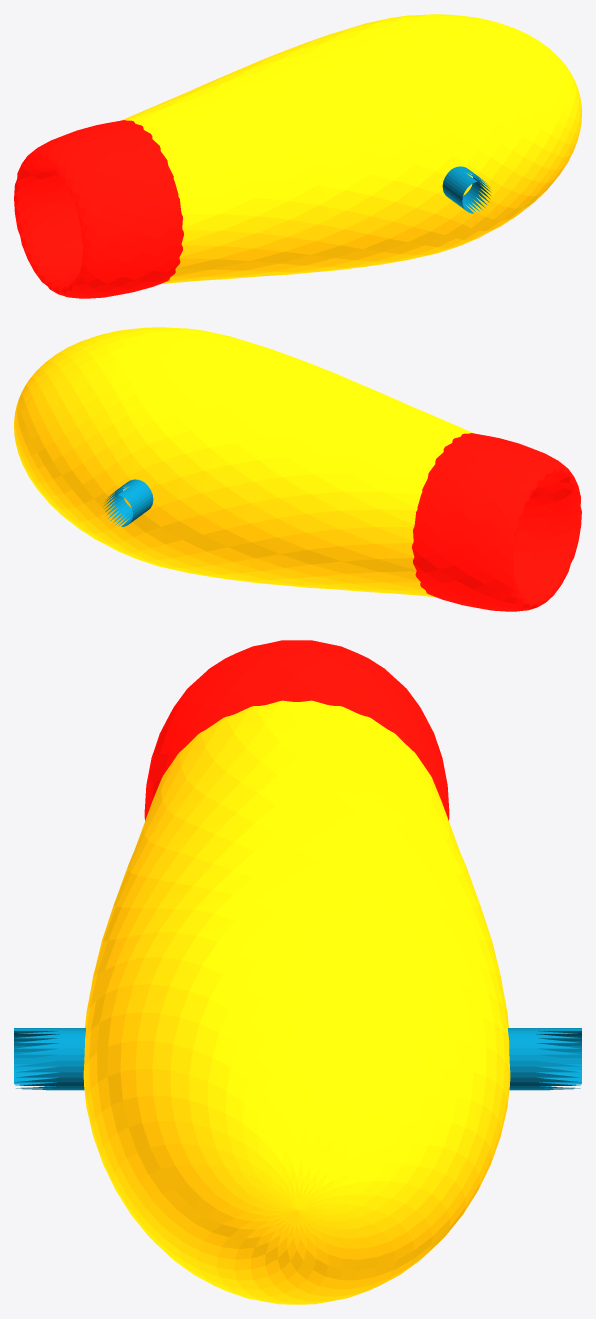
File: cannon.glb
3 renders of one model, top to bottom at view 1: azimuth 30°, elevation 25°; view 2: azimuth 150°, elevation 25°; view 3: azimuth 270°, elevation 25°, orthographic. The views are drawn at different scales.
Parts seen in each view (by area): view 1: Cube.001_Material.004_0; view 2: Cube.001_Material.004_0; view 3: Cube.001_Material.004_0.
Part boxes in pixels (left/top/right/bottom): Cube.001_Material.004_0: left=14, top=14, right=581, bottom=298; Cube.001_Material.004_0: left=14, top=327, right=581, bottom=611; Cube.001_Material.004_0: left=14, top=640, right=581, bottom=1304.
Bounding box in the file's own units: 7.03 × 2.8 × 3.71.
